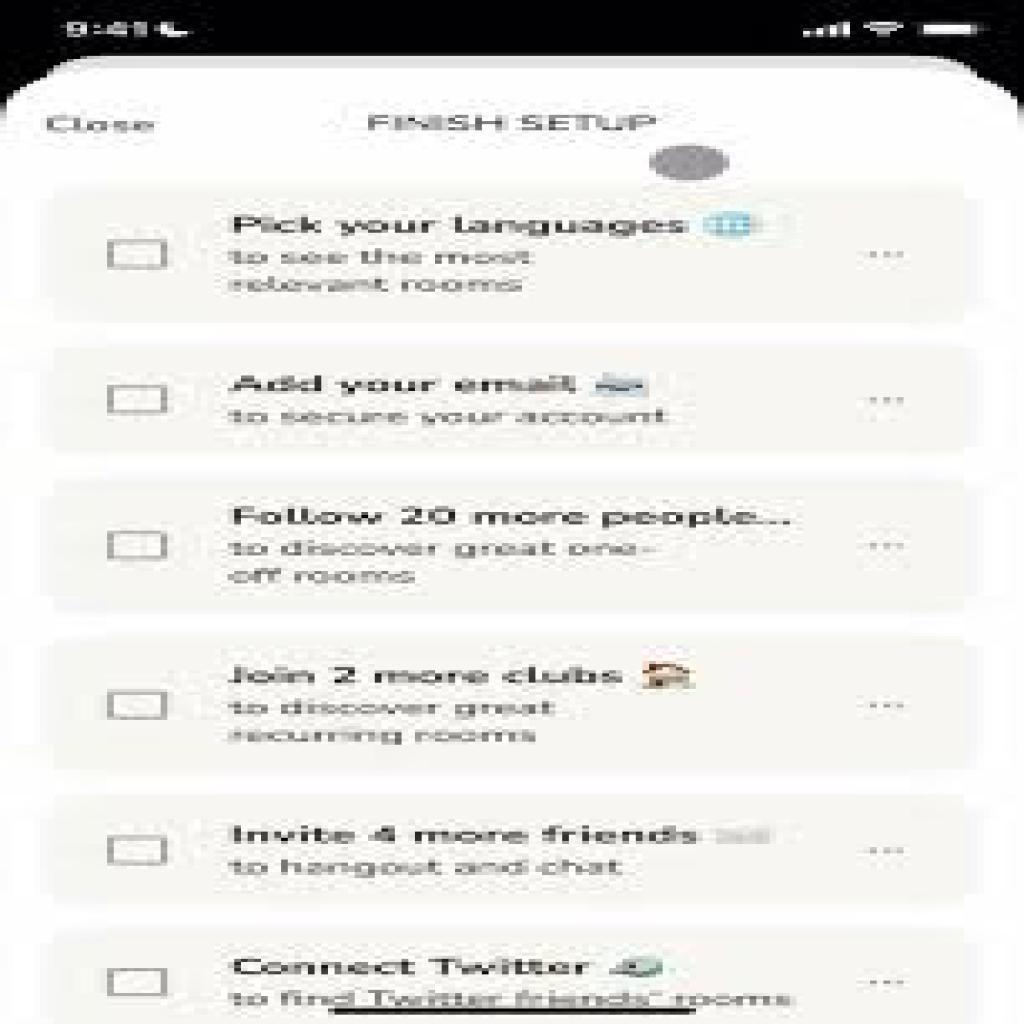checkbox: (108, 689, 165, 721), (109, 967, 167, 997), (108, 836, 167, 865), (110, 387, 167, 415), (109, 244, 164, 269), (110, 534, 165, 557)
icon: (864, 240, 907, 275), (866, 529, 908, 563), (863, 386, 908, 414), (862, 838, 908, 865), (866, 694, 904, 722), (868, 972, 905, 997)
label: (223, 498, 796, 596), (219, 210, 760, 312), (225, 650, 707, 756), (229, 821, 783, 890), (225, 949, 807, 1012), (214, 365, 672, 439)
